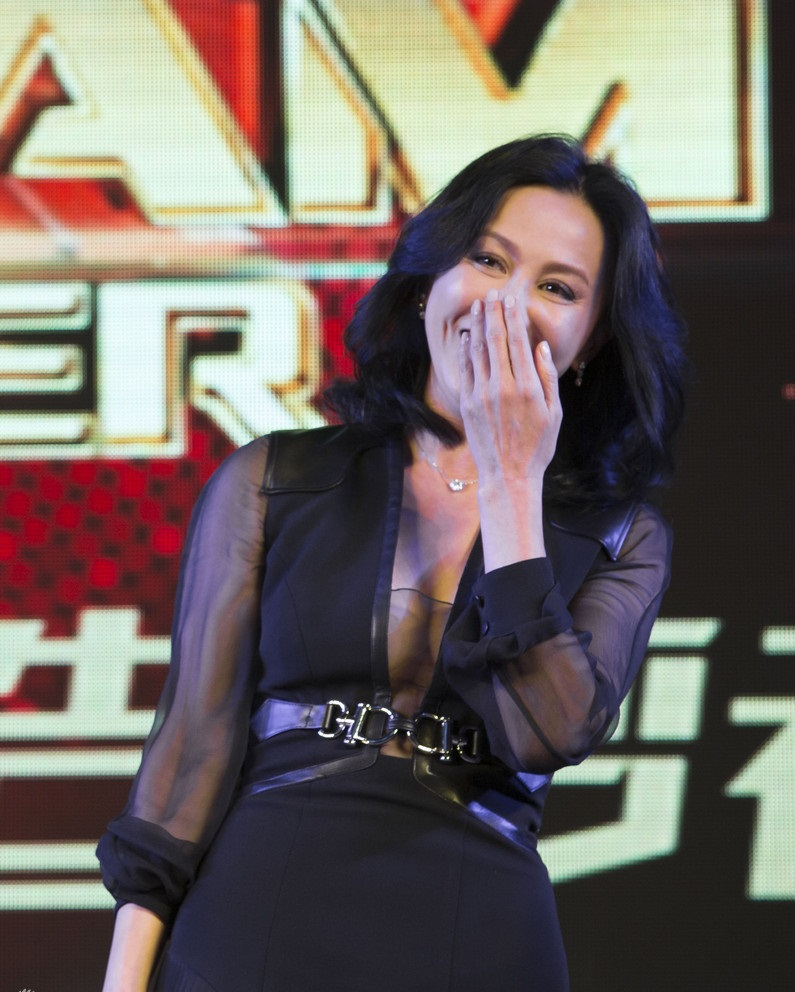face: (435, 184, 601, 416)
